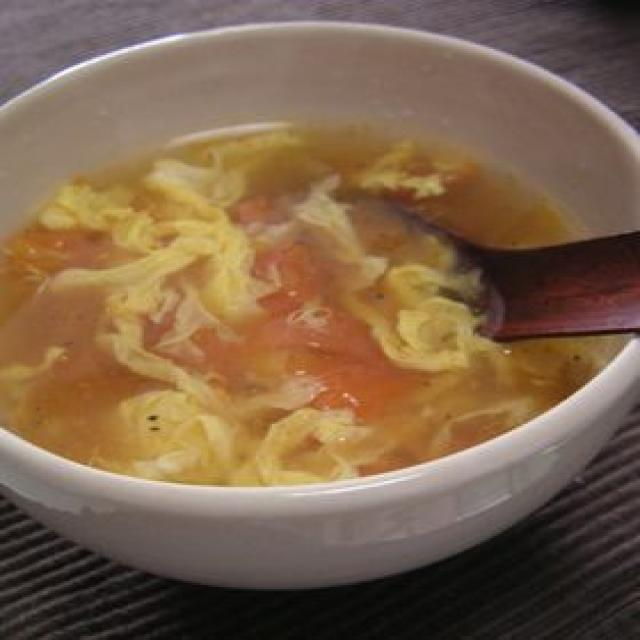汤锅炖物: (7, 18, 628, 596)
